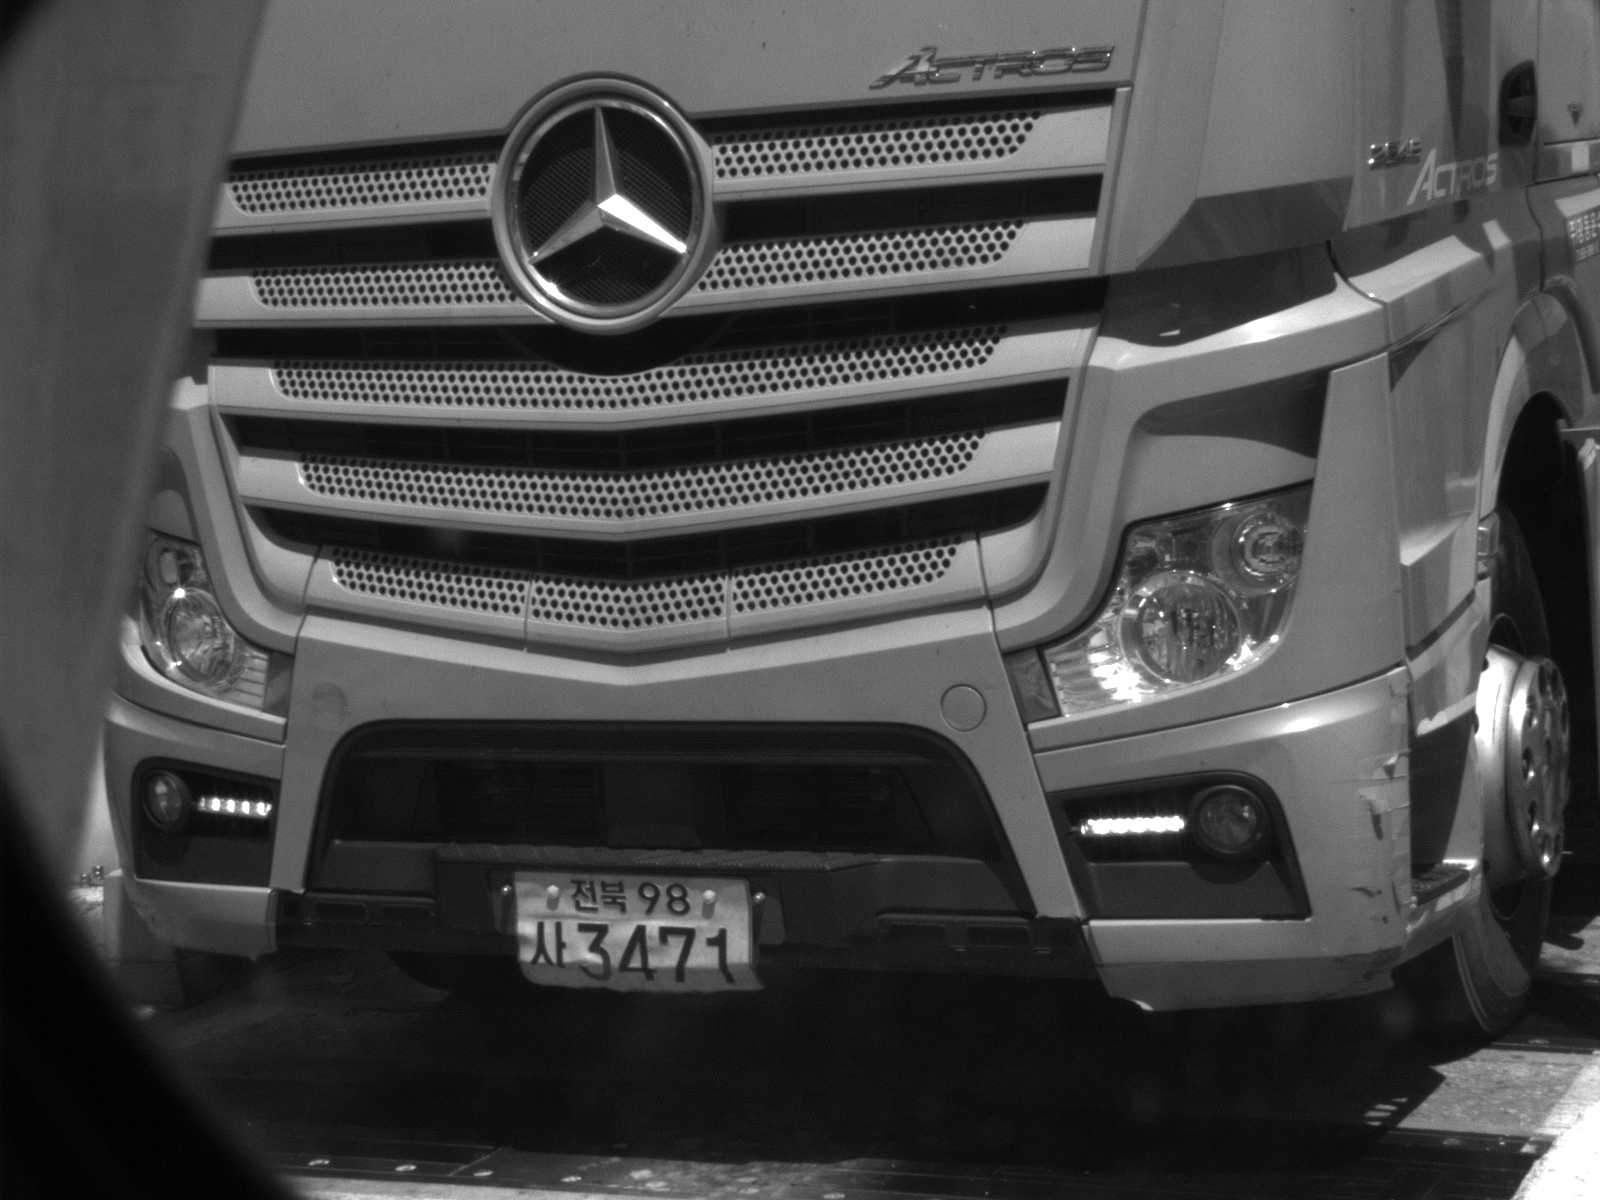car: (87, 1, 1599, 1057)
plate: (507, 867, 767, 997)
